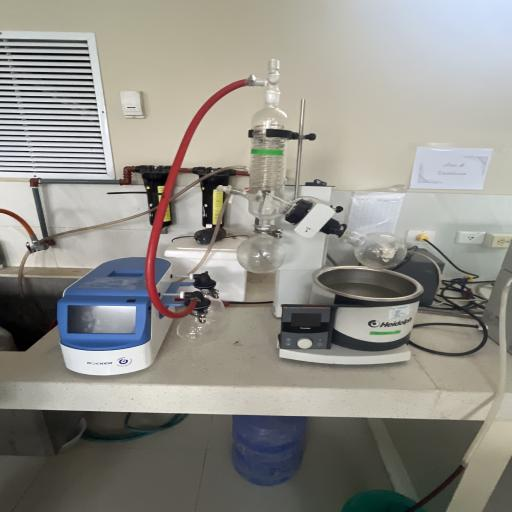Sistema_Rotaevaporacion: (53, 51, 427, 386)
